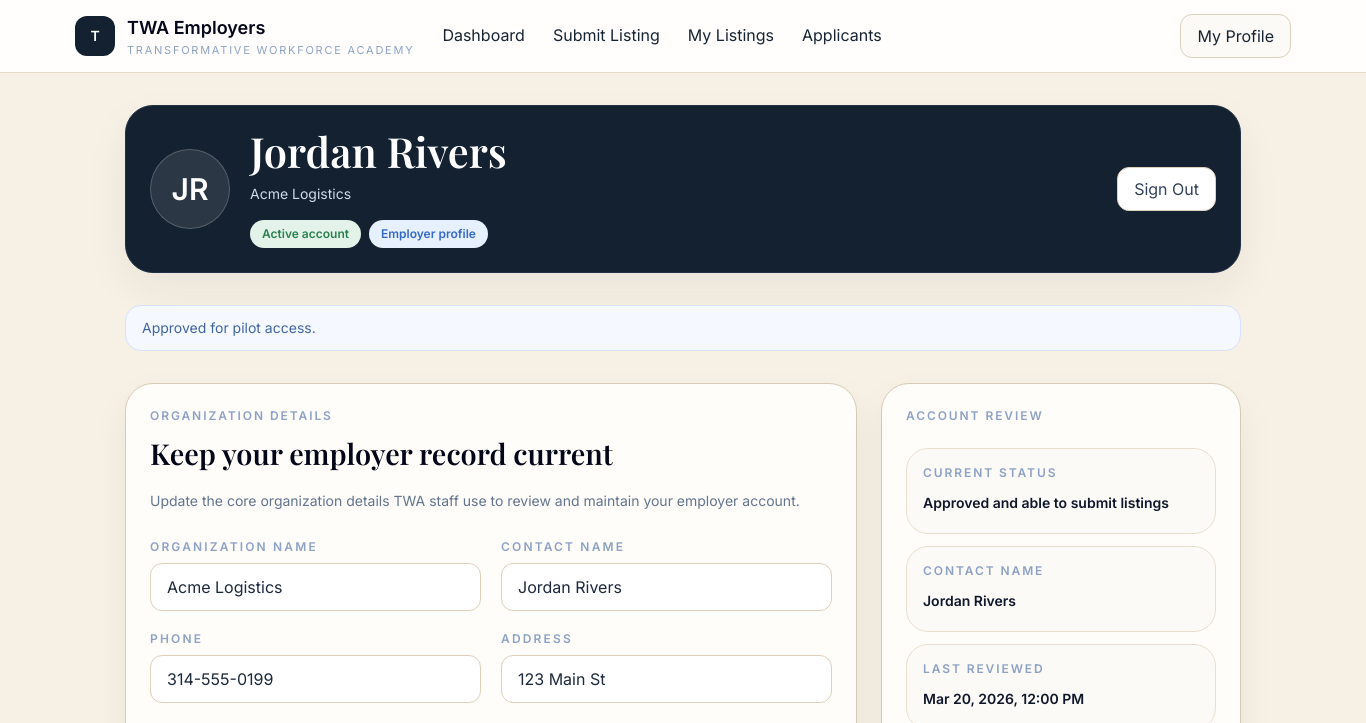
Test: approved employers are returned to review after saving profile changes
expect the heading "Keep your employer record current" is shown: met, box [150, 434, 613, 472]
Replace the text in the field named "Address" with "500   Market St " at (666, 679), box [501, 655, 832, 703]
(page scrolled)
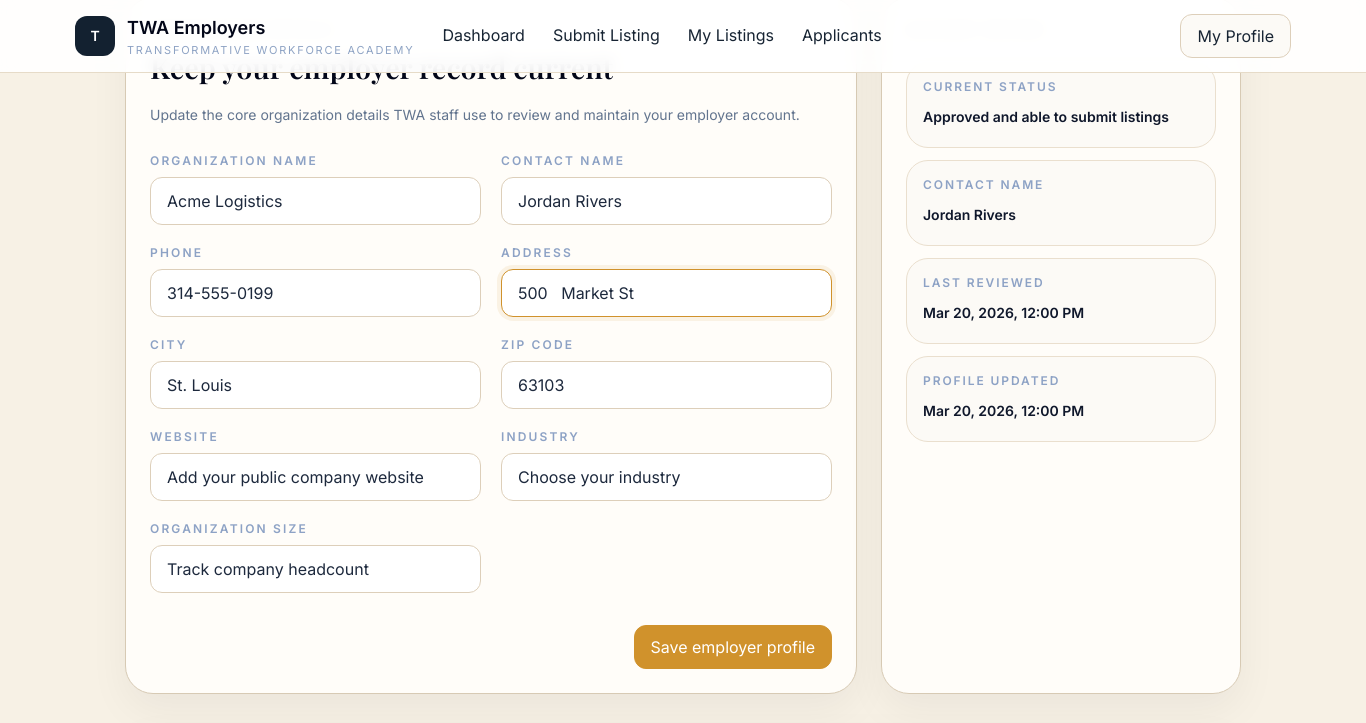
Replace the text in the field named "City" with "St.   Louis " at (316, 385), box [150, 361, 481, 409]
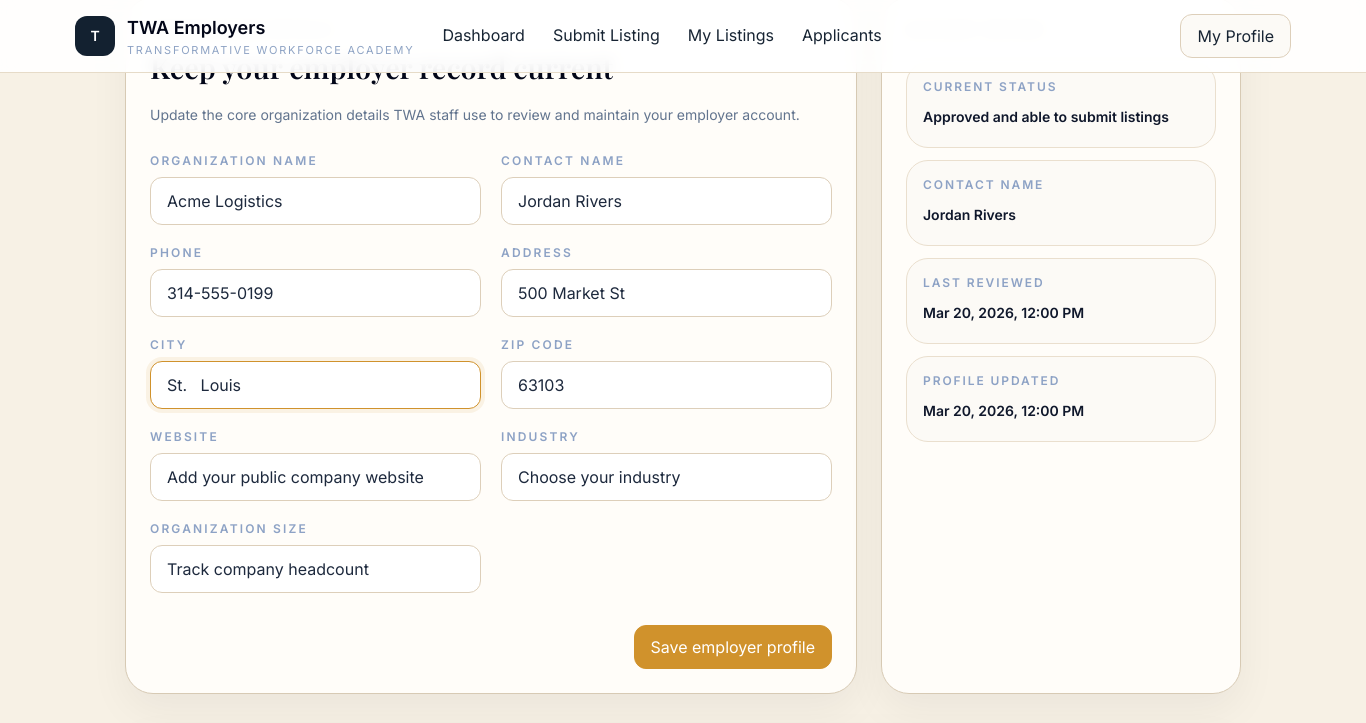
Replace the text in the field named "ZIP code" with "63103 1234" at (666, 385), box [501, 361, 832, 409]
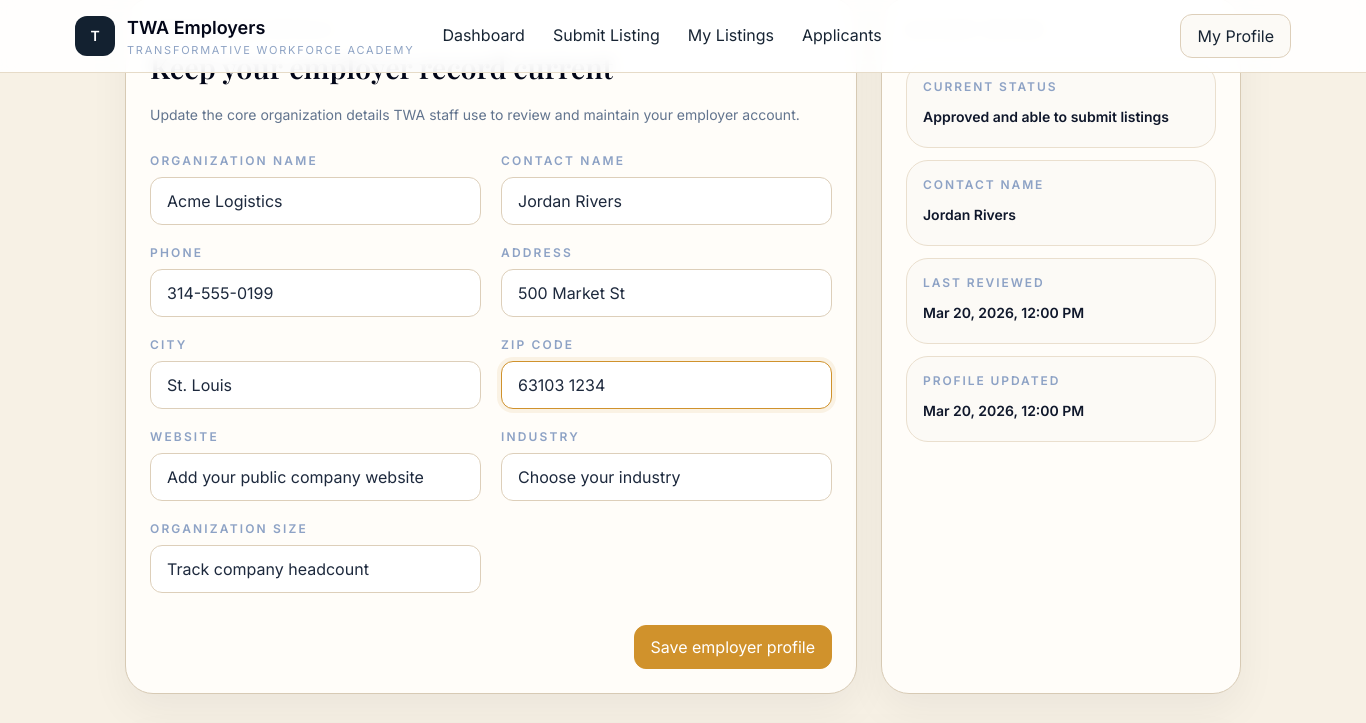
Click the button "Save employer profile" at (733, 647), box [634, 625, 832, 669]
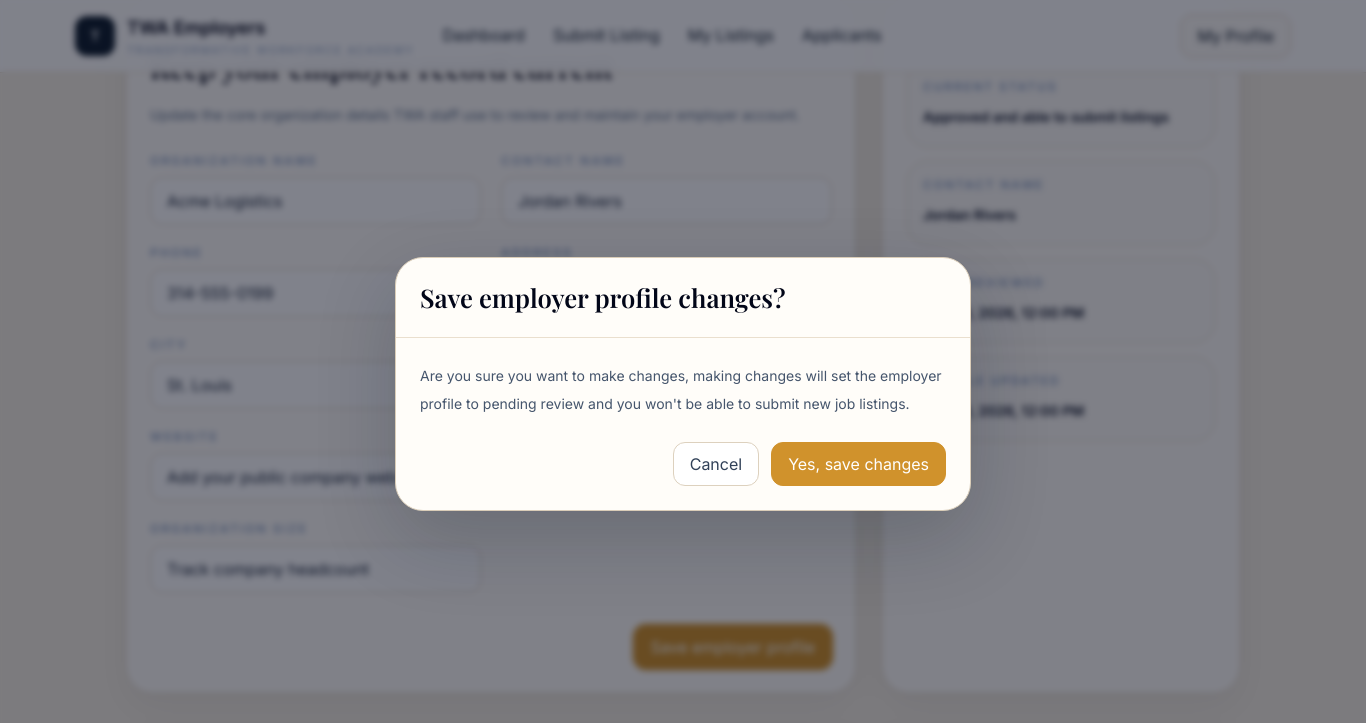
expect the text "are you sure you want to make changes, making changes will set the employer profile to pending review and you won't be a" is shown: met, box [420, 367, 942, 412]
Click the button "Yes, save changes" at (859, 464), box [771, 442, 946, 486]
(page scrolled)
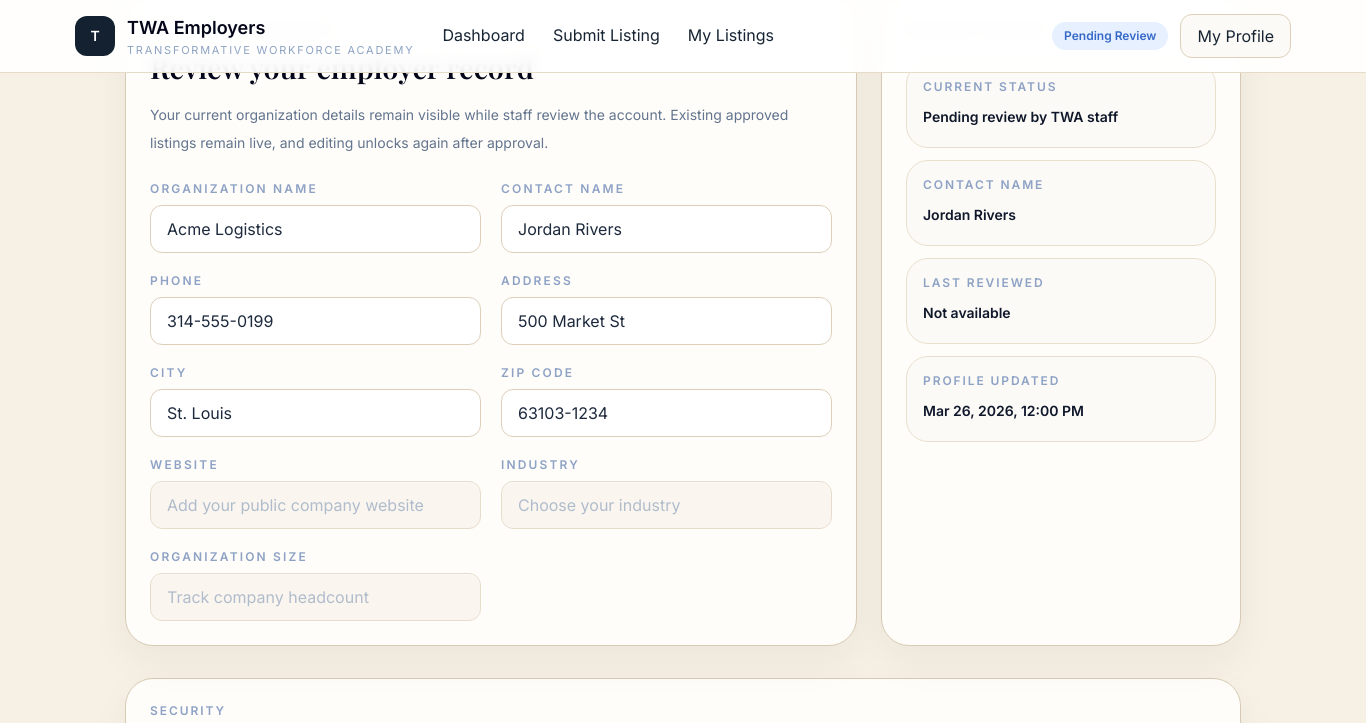
expect the field named "Address" is disabled: met, box [501, 297, 832, 345]
expect the button "Save employer profile" is gone: met
